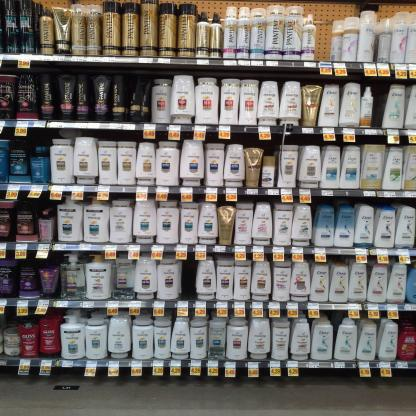empty_space: (316, 28, 329, 64)
